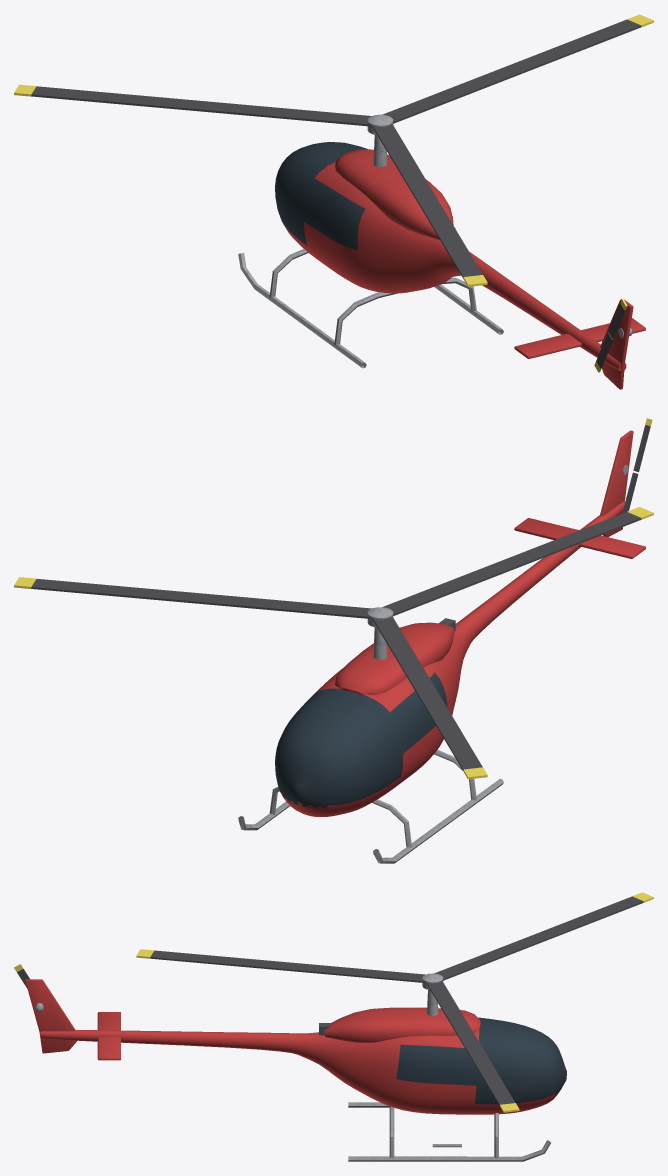
Rendered from heli_light_red.gltf.
3 views of the same model, one above another, from view 1: azimuth 30°, elevation 25°; view 2: azimuth 150°, elevation 25°; view 3: azimuth 270°, elevation 25° (orthographic). The views are drawn at different scales.
Parts seen in each view (by area): view 1: heli_light_red; view 2: heli_light_red; view 3: heli_light_red.
Boxes of the visible parts, x1,y1,x2,y2 form: heli_light_red: (14, 14, 653, 389); heli_light_red: (14, 418, 653, 863); heli_light_red: (14, 892, 653, 1161).
Bounding box in the file's own units: 8.89 × 3.12 × 10.99.
6 materials, 2 textured.
